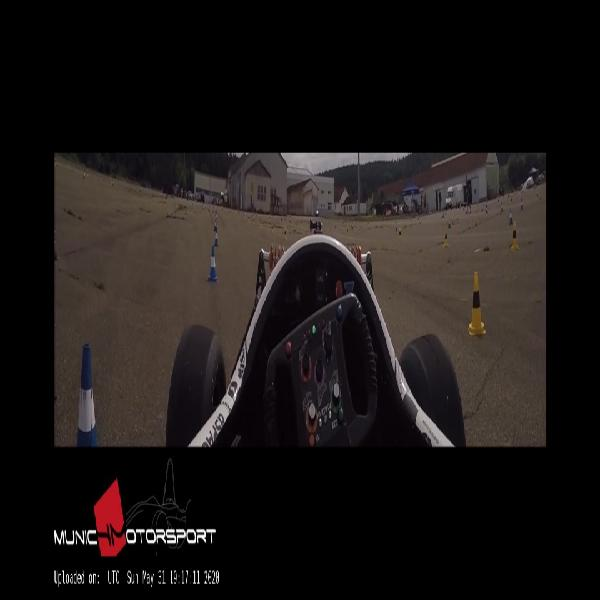blue_cone: (76, 344, 97, 447), (207, 246, 217, 282), (214, 228, 218, 247)
yellow_cone: (468, 272, 485, 335), (511, 221, 518, 250)
